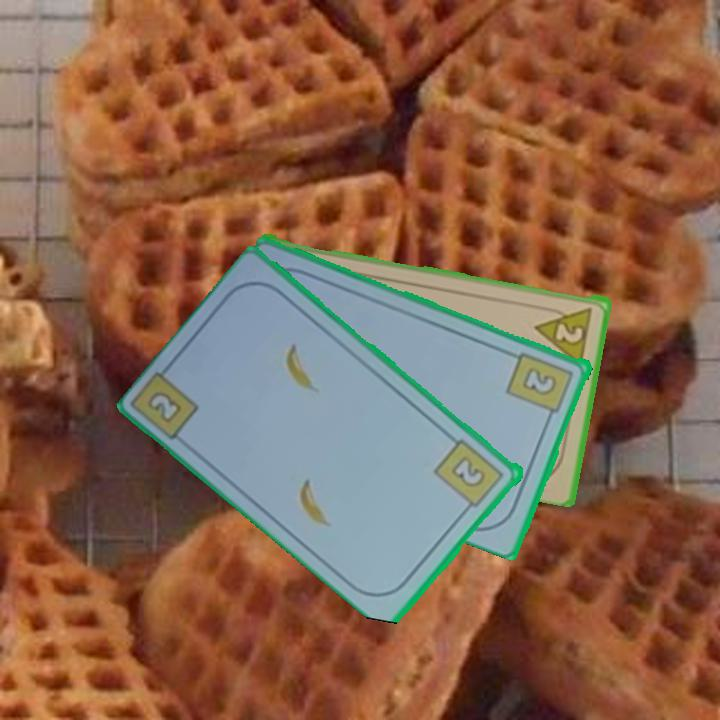2b: (431, 435, 508, 516), (504, 348, 577, 424), (144, 387, 186, 426)
2p: (532, 303, 596, 366)
